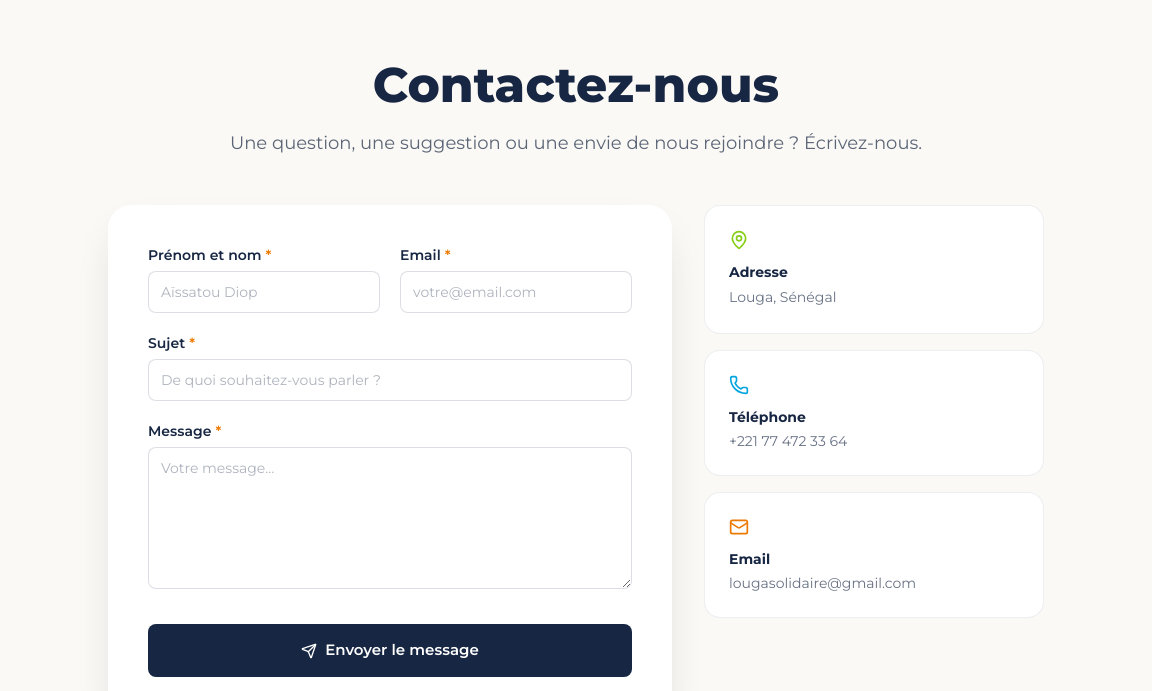
Test case: ContactPage › blocks submission and reports errors when required fields are empty
This screenshot has width=1152, height=691.
Click the button "Envoyer le message".
click(390, 650)  # box [148,624,632,677]
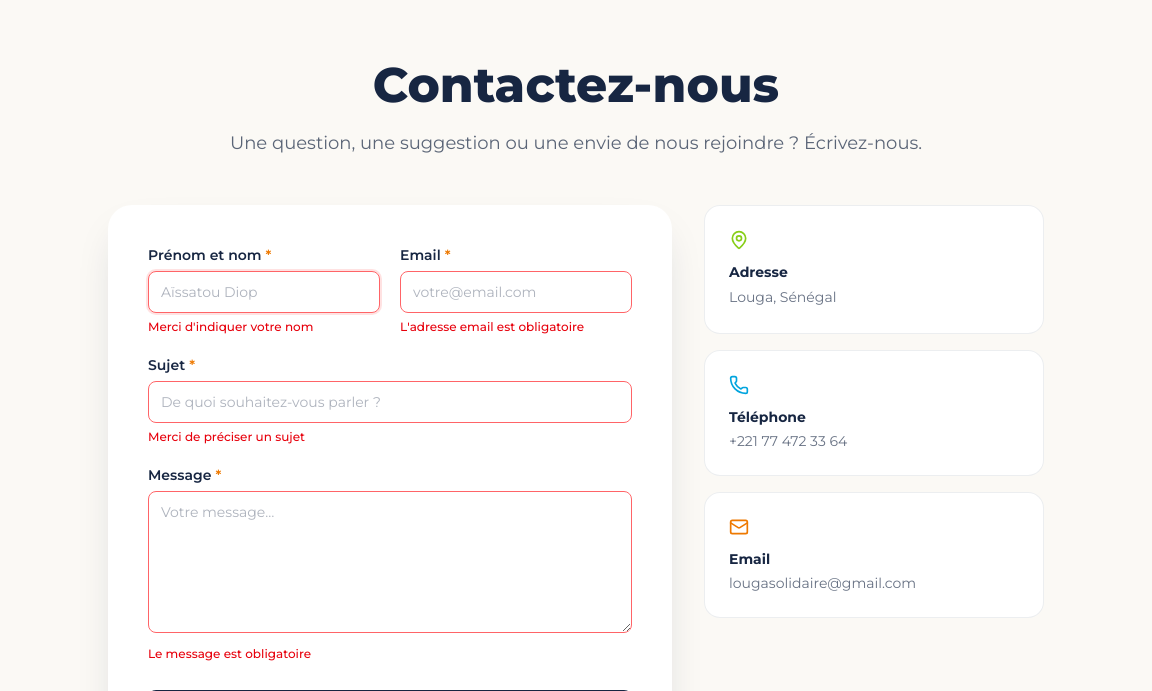
Check: the text "Merci d'indiquer votre nom" is shown, box [148,319,313,334]
Check: the text "L'adresse email est obligatoire" is shown, box [400,319,584,334]
